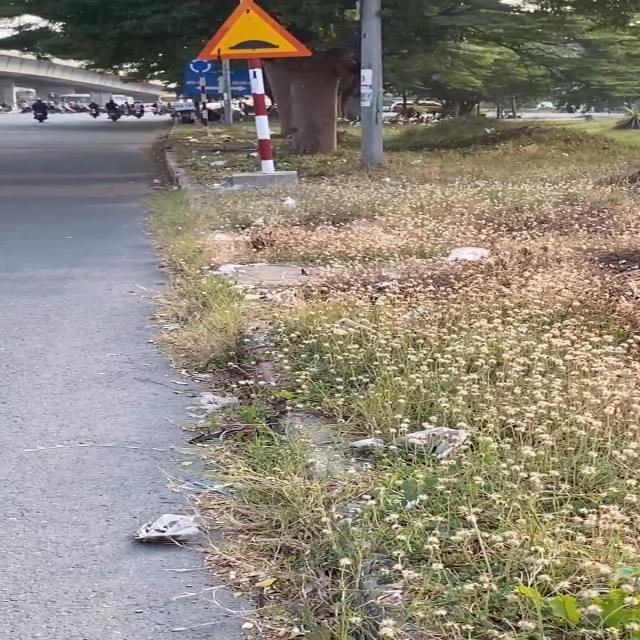221-duong-go-ghe: (196, 0, 316, 61)
303-noi-giao-nhau-chay-theo-vong-xuyen: (188, 58, 214, 76)
